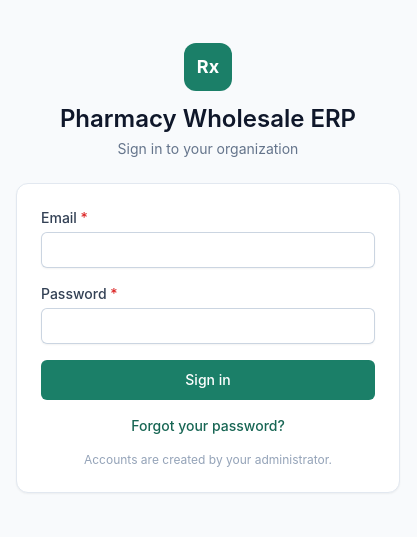
Test: login page › shows a safe message for bad credentials and does not leak details
Type "a@b.test" into the field labelled "Email *".
click(208, 250); type("a@b.test")  # box [41, 232, 375, 268]
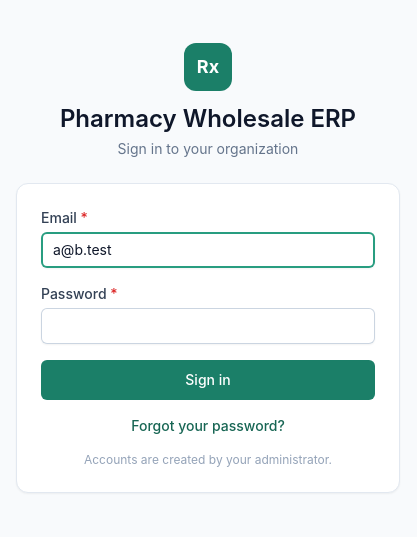
Type "wrong-password" into the password field labelled "Password *".
click(208, 326); type("wrong-password")  # box [41, 308, 375, 344]
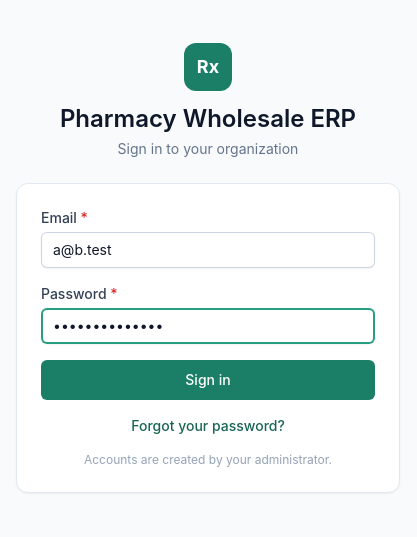
Click the button "Sign in".
click(208, 380)  # box [41, 360, 375, 400]
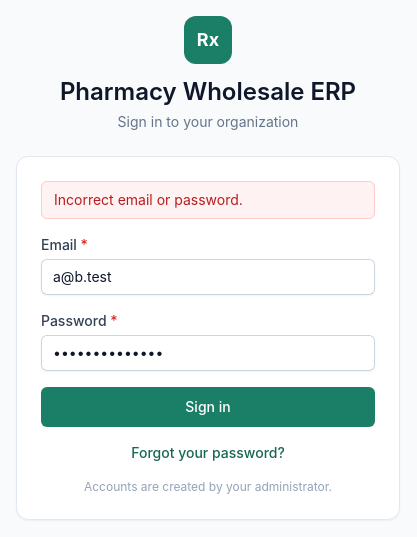
Result: the message reads "Incorrect email or password." at [54, 191, 243, 208]
